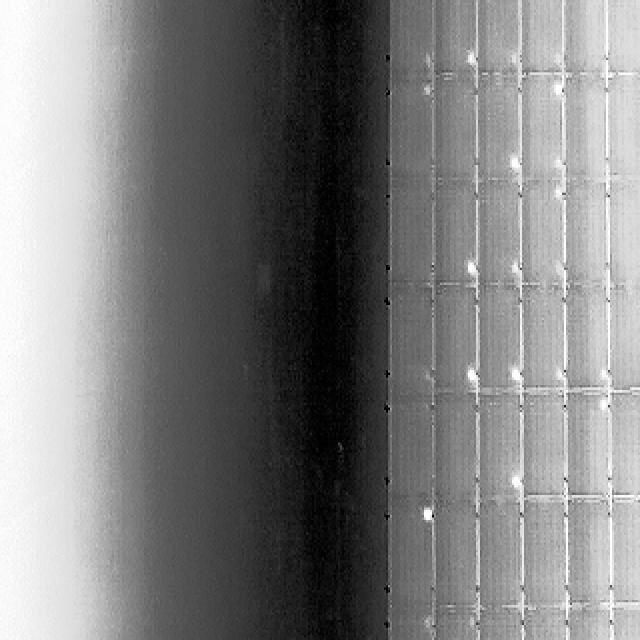Hotspots: (495, 148, 520, 177), (503, 256, 521, 282), (504, 362, 522, 386), (503, 471, 522, 493), (462, 258, 480, 281), (589, 396, 606, 420), (504, 152, 521, 175), (464, 363, 479, 388), (464, 48, 479, 73), (552, 364, 568, 385), (547, 83, 566, 100), (550, 152, 564, 175), (550, 256, 564, 279), (552, 186, 566, 208), (417, 502, 433, 520), (597, 367, 610, 389), (506, 49, 518, 72)
PV-modules: (431, 186, 481, 292), (521, 282, 569, 391), (388, 286, 434, 399), (430, 393, 476, 505), (476, 287, 523, 396), (520, 391, 568, 497), (524, 500, 571, 608), (478, 502, 524, 612), (478, 392, 523, 503), (563, 283, 609, 391), (430, 286, 474, 398), (431, 503, 477, 610), (567, 500, 612, 609), (390, 503, 435, 612), (563, 178, 608, 286), (477, 77, 522, 185), (562, 76, 607, 184), (389, 397, 434, 504), (521, 181, 566, 288), (475, 182, 520, 288), (522, 78, 566, 186), (389, 81, 434, 185), (565, 391, 609, 497), (390, 180, 434, 286), (430, 80, 474, 186), (600, 77, 640, 185), (602, 390, 640, 500), (602, 282, 640, 390), (606, 498, 640, 608), (606, 175, 640, 285), (561, 0, 612, 73), (475, 0, 522, 75), (520, 0, 566, 72), (428, 0, 474, 72), (391, 0, 434, 75), (606, 0, 640, 72), (524, 602, 570, 640), (476, 605, 522, 640), (564, 607, 610, 640), (430, 607, 476, 640), (388, 610, 432, 640), (612, 607, 640, 640)
